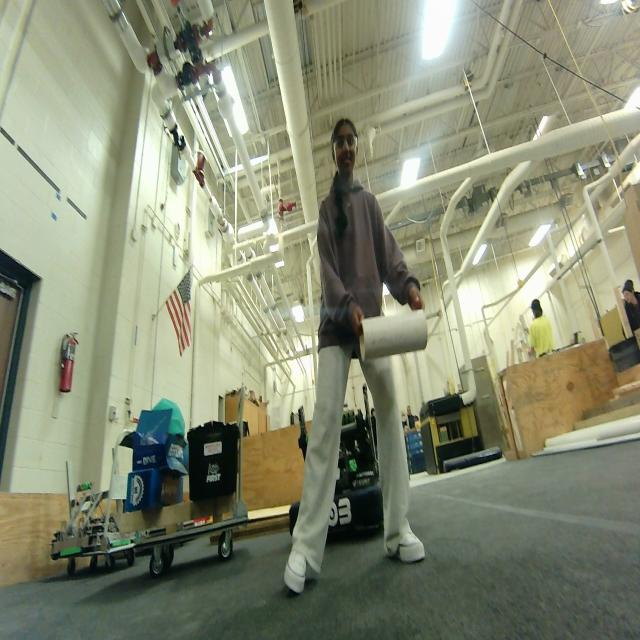coral: (359, 308, 432, 370)
